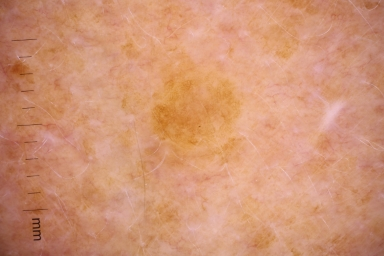melanoma: (152, 79, 237, 144)
